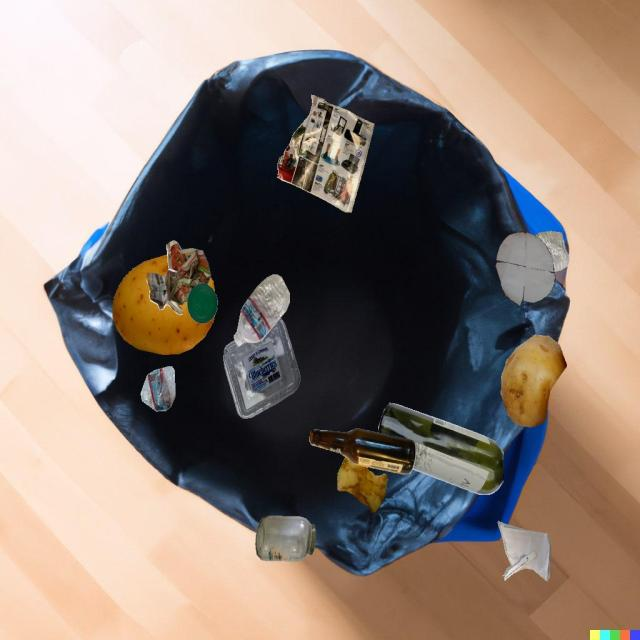biowaste: (112, 254, 215, 355), (501, 335, 567, 427), (338, 457, 388, 513)
glass: (378, 403, 503, 495), (309, 428, 416, 474), (255, 516, 316, 562)
paper: (277, 95, 374, 213), (145, 240, 211, 315), (495, 231, 556, 307), (498, 521, 551, 581)
plastic: (223, 318, 300, 419), (234, 275, 290, 347), (141, 367, 176, 411), (535, 231, 569, 272), (187, 284, 218, 324)
